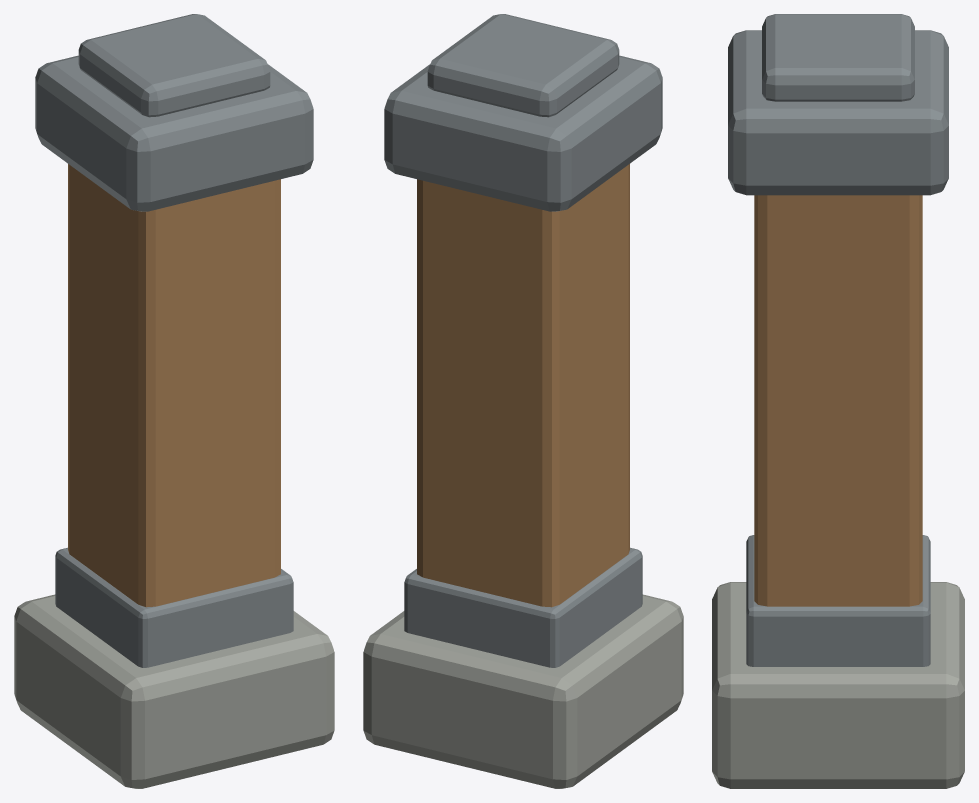
Rendered from Fence_Decorative_Post.glb.
3 renders of one model, left to right at view 1: azimuth 30°, elevation 25°; view 2: azimuth 150°, elevation 25°; view 3: azimuth 270°, elevation 25°, orthographic. The views are drawn at different scales.
Visible parts, largest first — view 1: Fence_Decorative_Post; view 2: Fence_Decorative_Post; view 3: Fence_Decorative_Post.
Boxes of the visible parts, left/top/right/bottom form: Fence_Decorative_Post: left=14, top=14, right=334, bottom=788; Fence_Decorative_Post: left=363, top=14, right=683, bottom=788; Fence_Decorative_Post: left=712, top=14, right=964, bottom=788.
Bounding box in the file's own units: 0.48 × 1.47 × 0.48.
